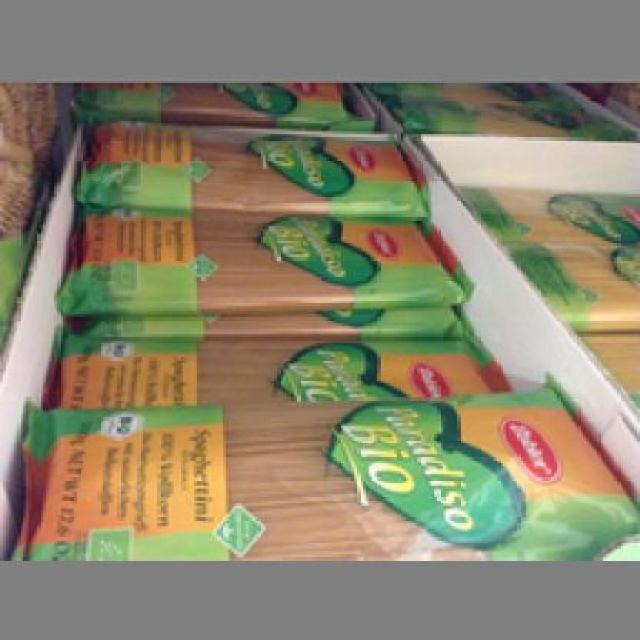Pasta: (17, 386, 632, 554), (57, 197, 452, 306), (66, 102, 423, 215), (37, 323, 503, 391)
